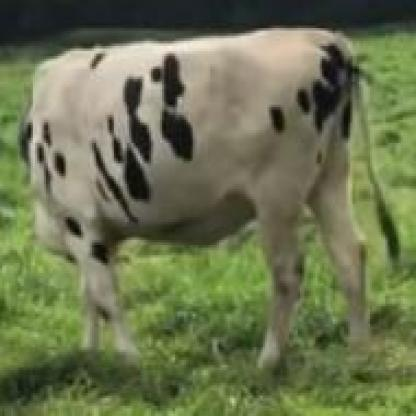cow: (20, 28, 400, 375)
